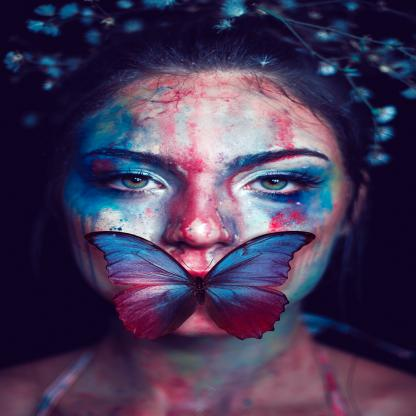Eye: (240, 171, 324, 200), (87, 168, 166, 197)
Nose: (166, 189, 238, 248)
